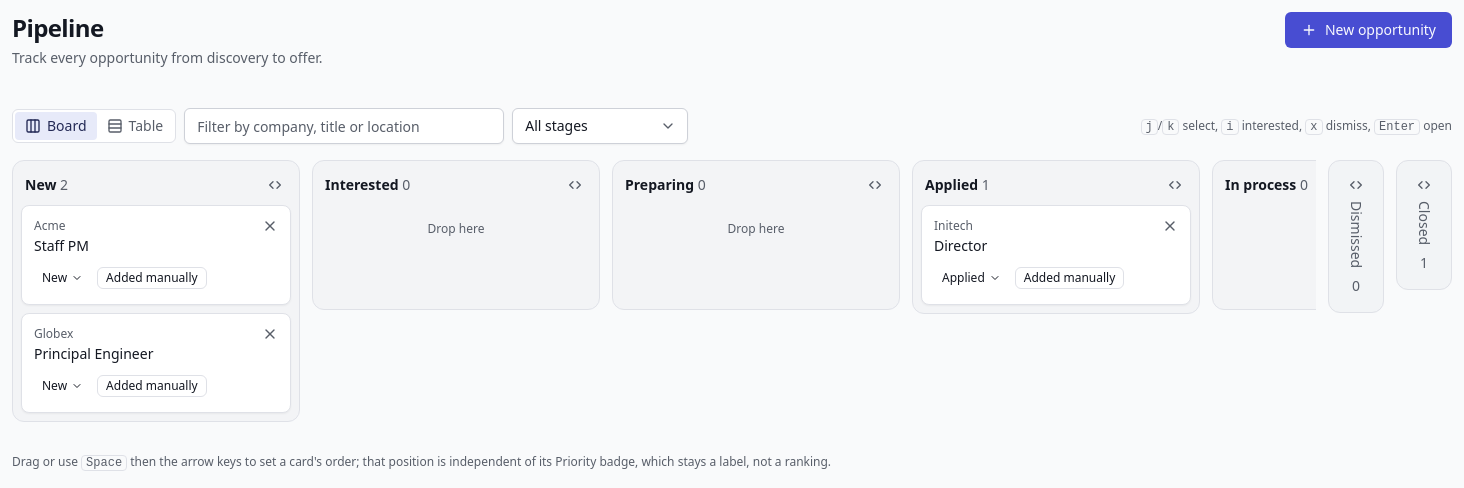
Test: manual order within a column (issue #240) › explains the order/priority relationship on the board, not the table
expect the element "Acme Staff PM New Added manually" is shown: met, box 21,205 -> 291,305
expect the text "independent of its" is shown: met, box 127,453 -> 552,470
Click the button "Table". click: (135, 126)
box: 96,112 -> 173,140
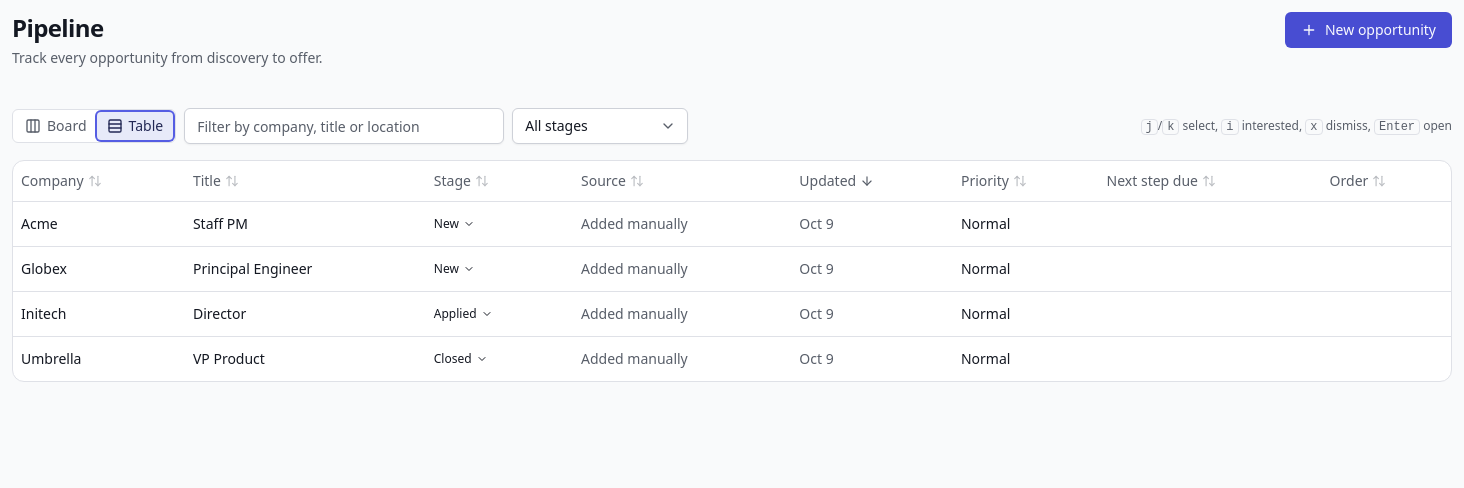
expect the text "independent of its" is gone: met
